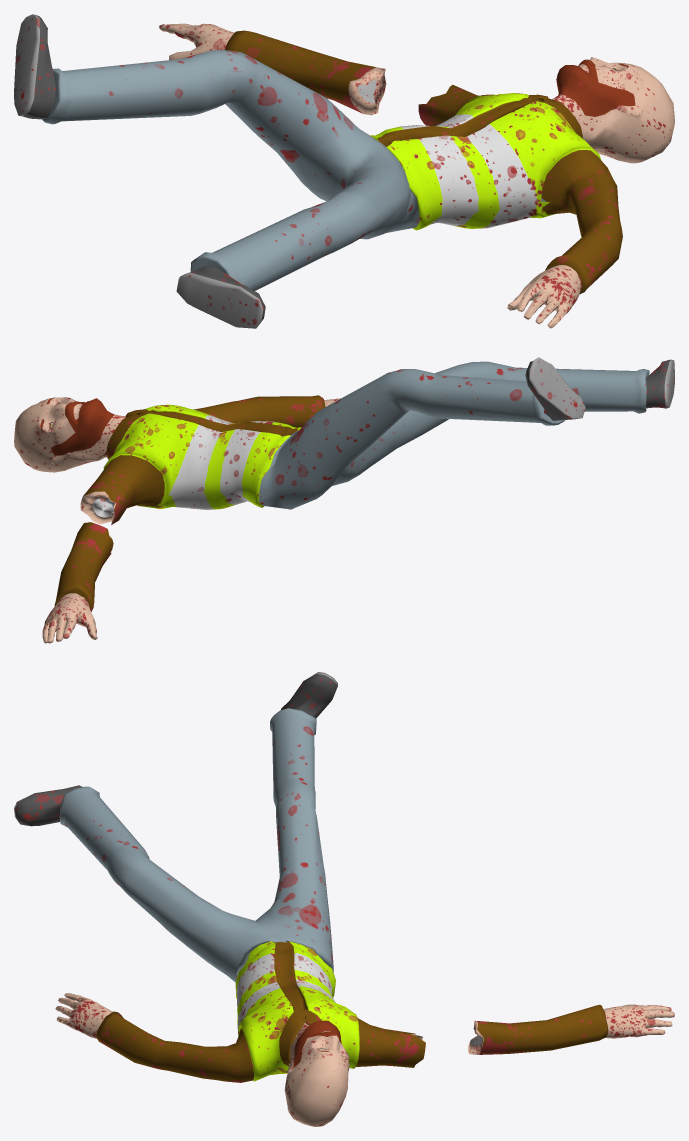
Rendered from Dead_Man.fbx.
The picture shows the model from 3 angles, top to bottom: view 1: azimuth 30°, elevation 25°; view 2: azimuth 150°, elevation 25°; view 3: azimuth 270°, elevation 25°; orthographic projection. The views are drawn at different scales.
Parts seen in each view (by area): view 1: Body, Arm; view 2: Body, Arm; view 3: Body, Arm.
Boxes of the visible parts, x1,y1,x2,y2 form: Body: (14,14,674,328); Arm: (159,23,386,115); Body: (14,357,674,524); Arm: (42,522,113,643); Body: (14,672,425,1126); Arm: (468,1004,674,1054).
Size of the model in its own units: 173 by 71.06 by 189.
